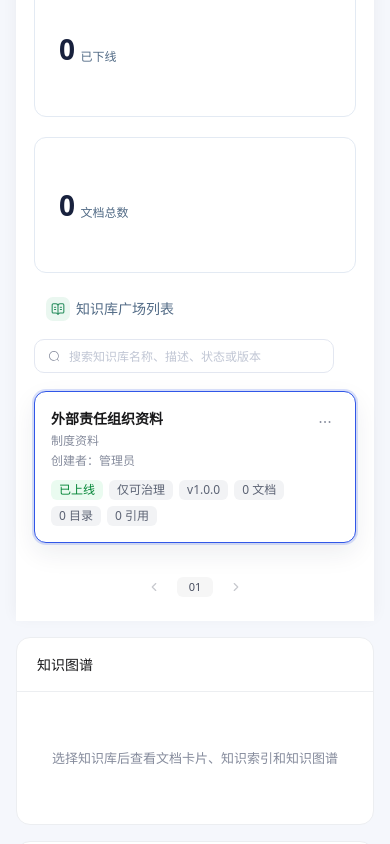
Scenario: keeps governance available but disables content actions without content access
(page scrolled)
expect the text "仅可治理" is shown: met, box [109, 480, 173, 500]
Click the button named "知识库操作": (325, 422) [311, 408, 339, 436]
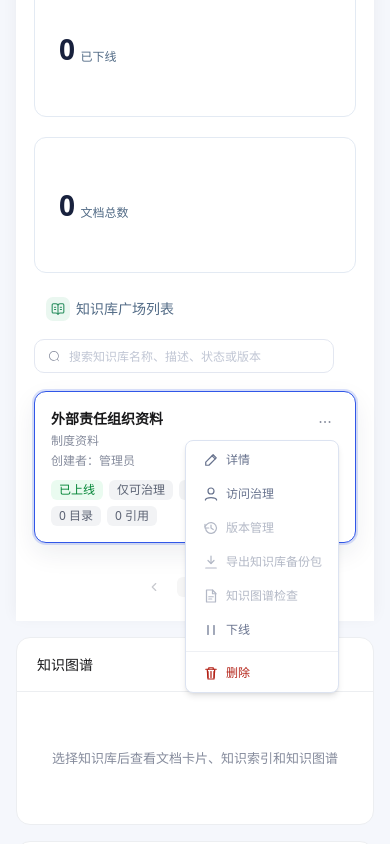
expect the menu item "访问治理" is enabled: met, box [202, 485, 274, 503]
